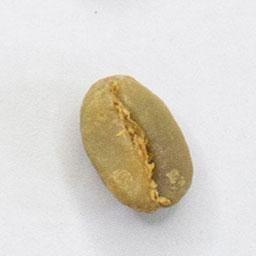longberry: (76, 71, 197, 214)
